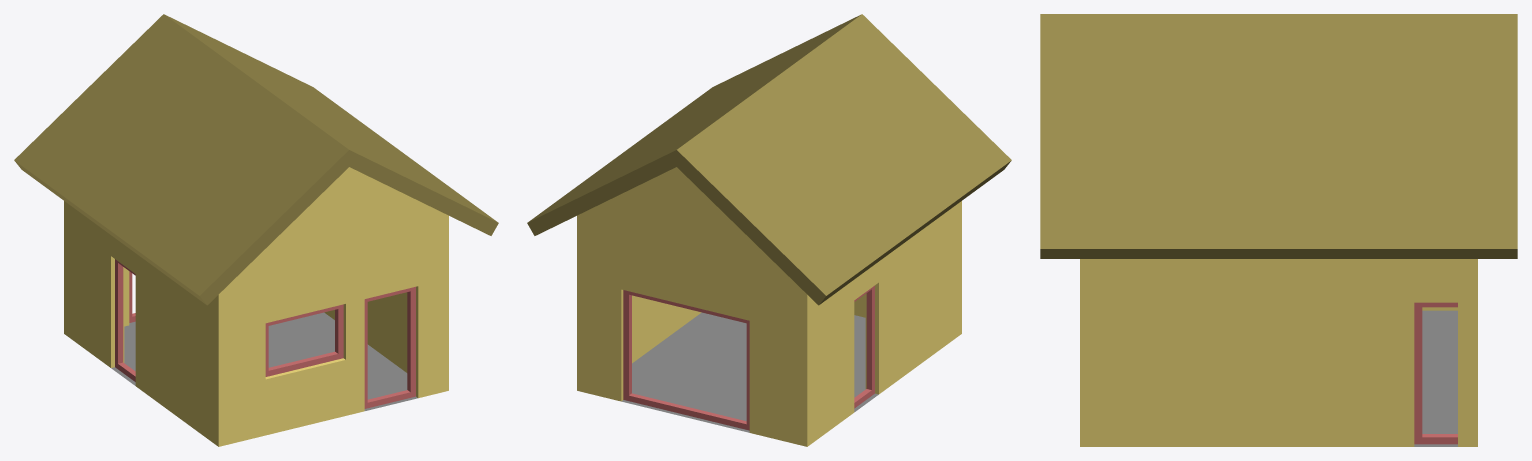
File: result.glb
3 views of the same model, side by side, from view 1: azimuth 30°, elevation 25°; view 2: azimuth 150°, elevation 25°; view 3: azimuth 270°, elevation 25° (orthographic). The views are drawn at different scales.
Visible parts, largest first — view 1: b32a5853-9a96-40fe-a30c-71b11dfe5a41__undefined (×2), 0306cbd7-eb8b-415a-a889-ce05d52d3a40__undefined, 46869b22-aaab-4c86-95e5-a0e485a73190__Plane_6, 8242f715-f053-4e2c-8b8d-74f1c4b3629d__Box, 7d6f9891-f8bc-476b-8f1f-8d959d132ae3__Box_3, 43a562ec-4820-41b2-835c-45cc793d459d__Box_12; view 2: b32a5853-9a96-40fe-a30c-71b11dfe5a41__undefined (×2), 0306cbd7-eb8b-415a-a889-ce05d52d3a40__undefined, 46869b22-aaab-4c86-95e5-a0e485a73190__Plane_6, 80a343ba-7d46-418c-b41e-ee451ab11110__Box_9, 43a562ec-4820-41b2-835c-45cc793d459d__Box_12; view 3: b32a5853-9a96-40fe-a30c-71b11dfe5a41__undefined, 0306cbd7-eb8b-415a-a889-ce05d52d3a40__undefined, 46869b22-aaab-4c86-95e5-a0e485a73190__Plane_6, 9beba39c-c2ee-4289-9ff9-00d792b5b2fc__Box_15.
Part boxes in pixels (x1,y1,x2,y2): b32a5853-9a96-40fe-a30c-71b11dfe5a41__undefined (×2): [14, 14, 498, 305]; 0306cbd7-eb8b-415a-a889-ce05d52d3a40__undefined: [64, 167, 448, 446]; 46869b22-aaab-4c86-95e5-a0e485a73190__Plane_6: [111, 312, 417, 410]; 8242f715-f053-4e2c-8b8d-74f1c4b3629d__Box: [364, 286, 415, 408]; 7d6f9891-f8bc-476b-8f1f-8d959d132ae3__Box_3: [265, 304, 343, 376]; 43a562ec-4820-41b2-835c-45cc793d459d__Box_12: [115, 259, 135, 381]; b32a5853-9a96-40fe-a30c-71b11dfe5a41__undefined (×2): [527, 14, 1011, 305]; 0306cbd7-eb8b-415a-a889-ce05d52d3a40__undefined: [577, 167, 961, 446]; 46869b22-aaab-4c86-95e5-a0e485a73190__Plane_6: [621, 312, 878, 432]; 80a343ba-7d46-418c-b41e-ee451ab11110__Box_9: [623, 290, 749, 430]; 43a562ec-4820-41b2-835c-45cc793d459d__Box_12: [854, 285, 874, 408]; b32a5853-9a96-40fe-a30c-71b11dfe5a41__undefined: [1040, 14, 1517, 258]; 0306cbd7-eb8b-415a-a889-ce05d52d3a40__undefined: [1080, 259, 1477, 446]; 46869b22-aaab-4c86-95e5-a0e485a73190__Plane_6: [1414, 310, 1457, 446]; 9beba39c-c2ee-4289-9ff9-00d792b5b2fc__Box_15: [1414, 302, 1457, 444].
Bounding box in the file's own units: 559 × 500 × 600.
